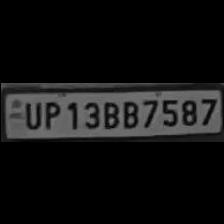1: (60, 97, 80, 128)
3: (79, 97, 99, 128)
5: (157, 94, 179, 125)
7: (196, 95, 218, 125), (138, 96, 156, 128)
8: (178, 95, 196, 125)
B: (99, 97, 119, 128), (118, 97, 138, 128)
P: (40, 97, 60, 128)
U: (19, 97, 41, 128)
